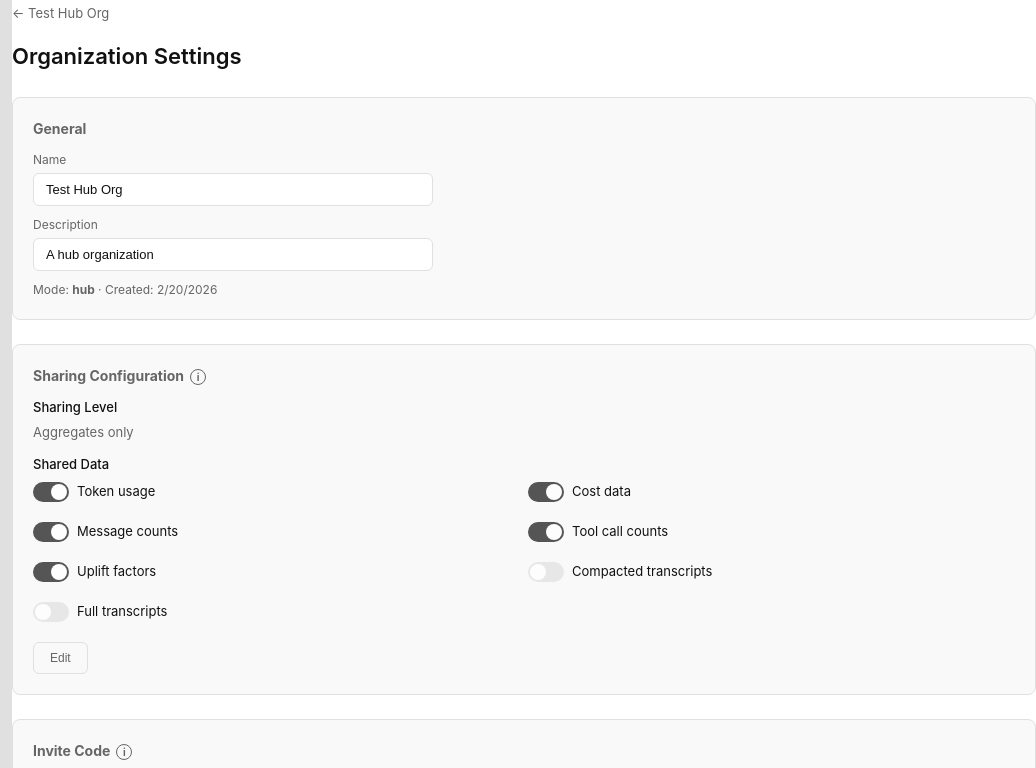
Test case: OrganizationSettings › Hub mode › opens sharing config editor when Edit is clicked
Click the button "Edit": (60, 658) [33,642,88,674]
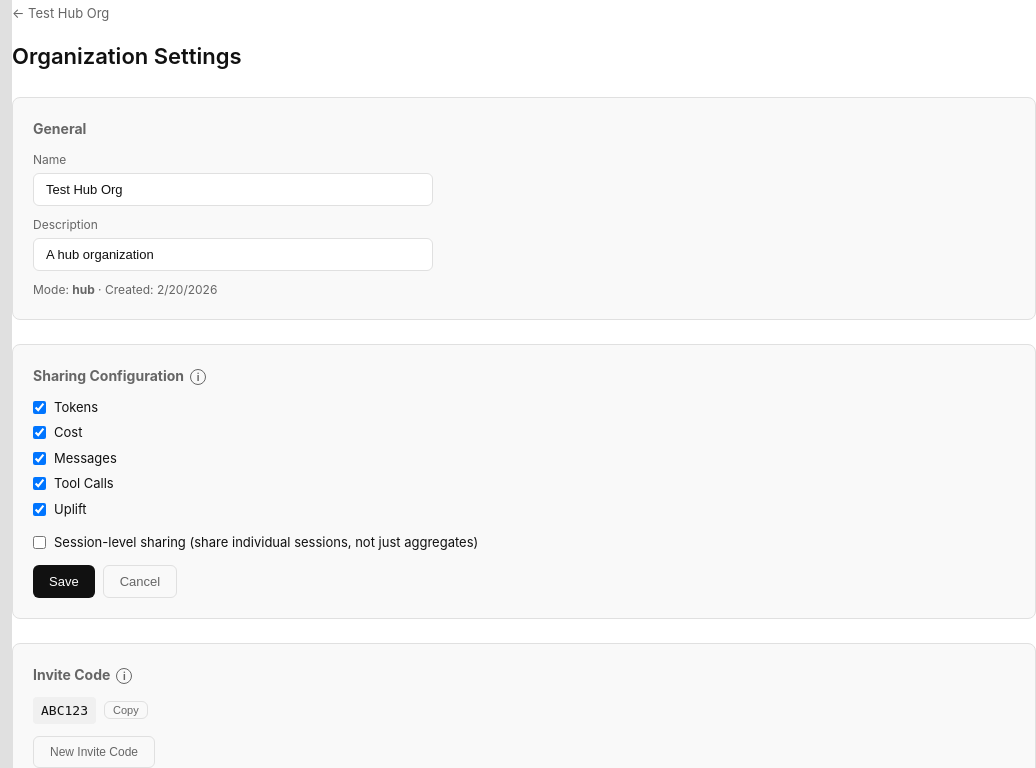
Now the button "Save" is shown, box [33,564,95,598]
Now the button "Cancel" is shown, box [103,564,177,598]
Now the checkbox labelled "Tokens" is shown, box [33,401,46,414]
